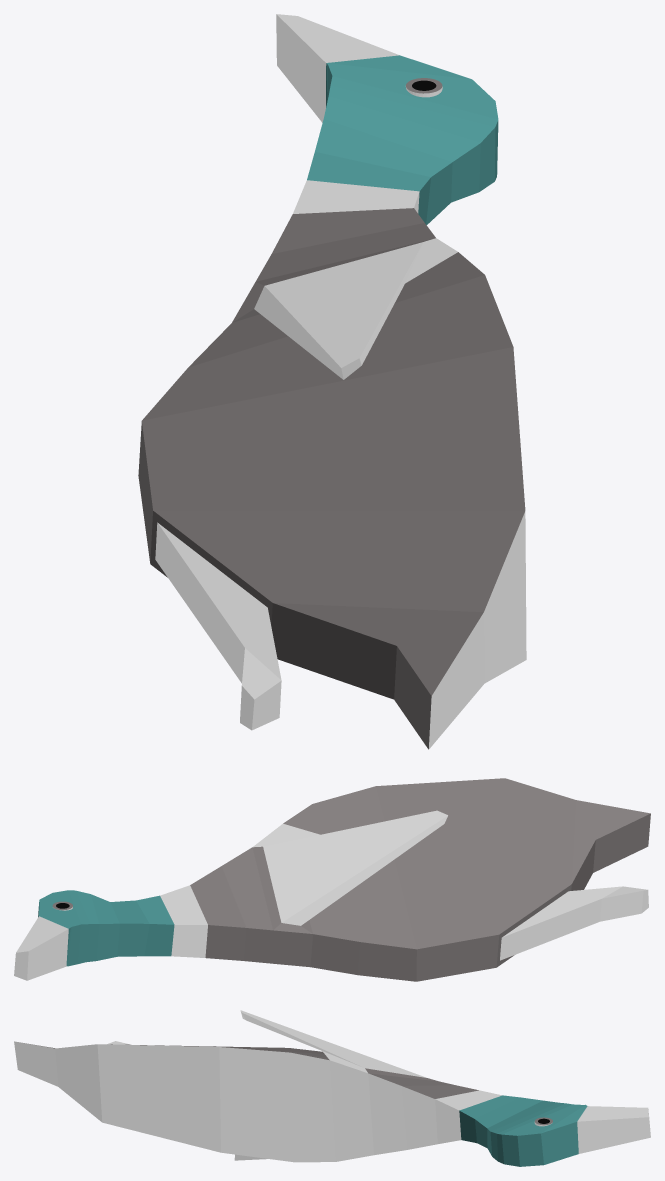
3 views of the same model, one above another, from view 1: azimuth 30°, elevation 25°; view 2: azimuth 150°, elevation 25°; view 3: azimuth 270°, elevation 25° (orthographic). The views are drawn at different scales.
Parts seen in each view (by area): view 1: Plane; view 2: Plane; view 3: Plane.
Boxes of the visible parts, left/top/right/bottom form: Plane: left=138, top=14, right=526, bottom=749; Plane: left=14, top=778, right=650, bottom=981; Plane: left=14, top=1010, right=650, bottom=1166.
Size of the model in its own units: 7.57 by 3.13 by 12.7.
